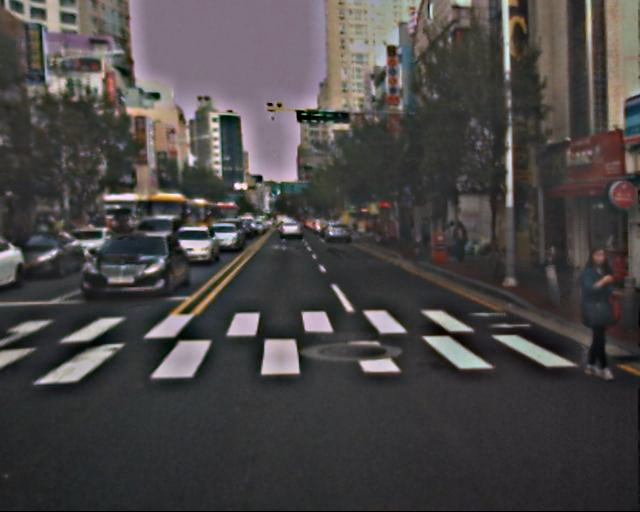person: (561, 246, 620, 381), (540, 242, 566, 275), (453, 220, 471, 263), (444, 221, 458, 254), (419, 220, 432, 252), (408, 216, 419, 243)
